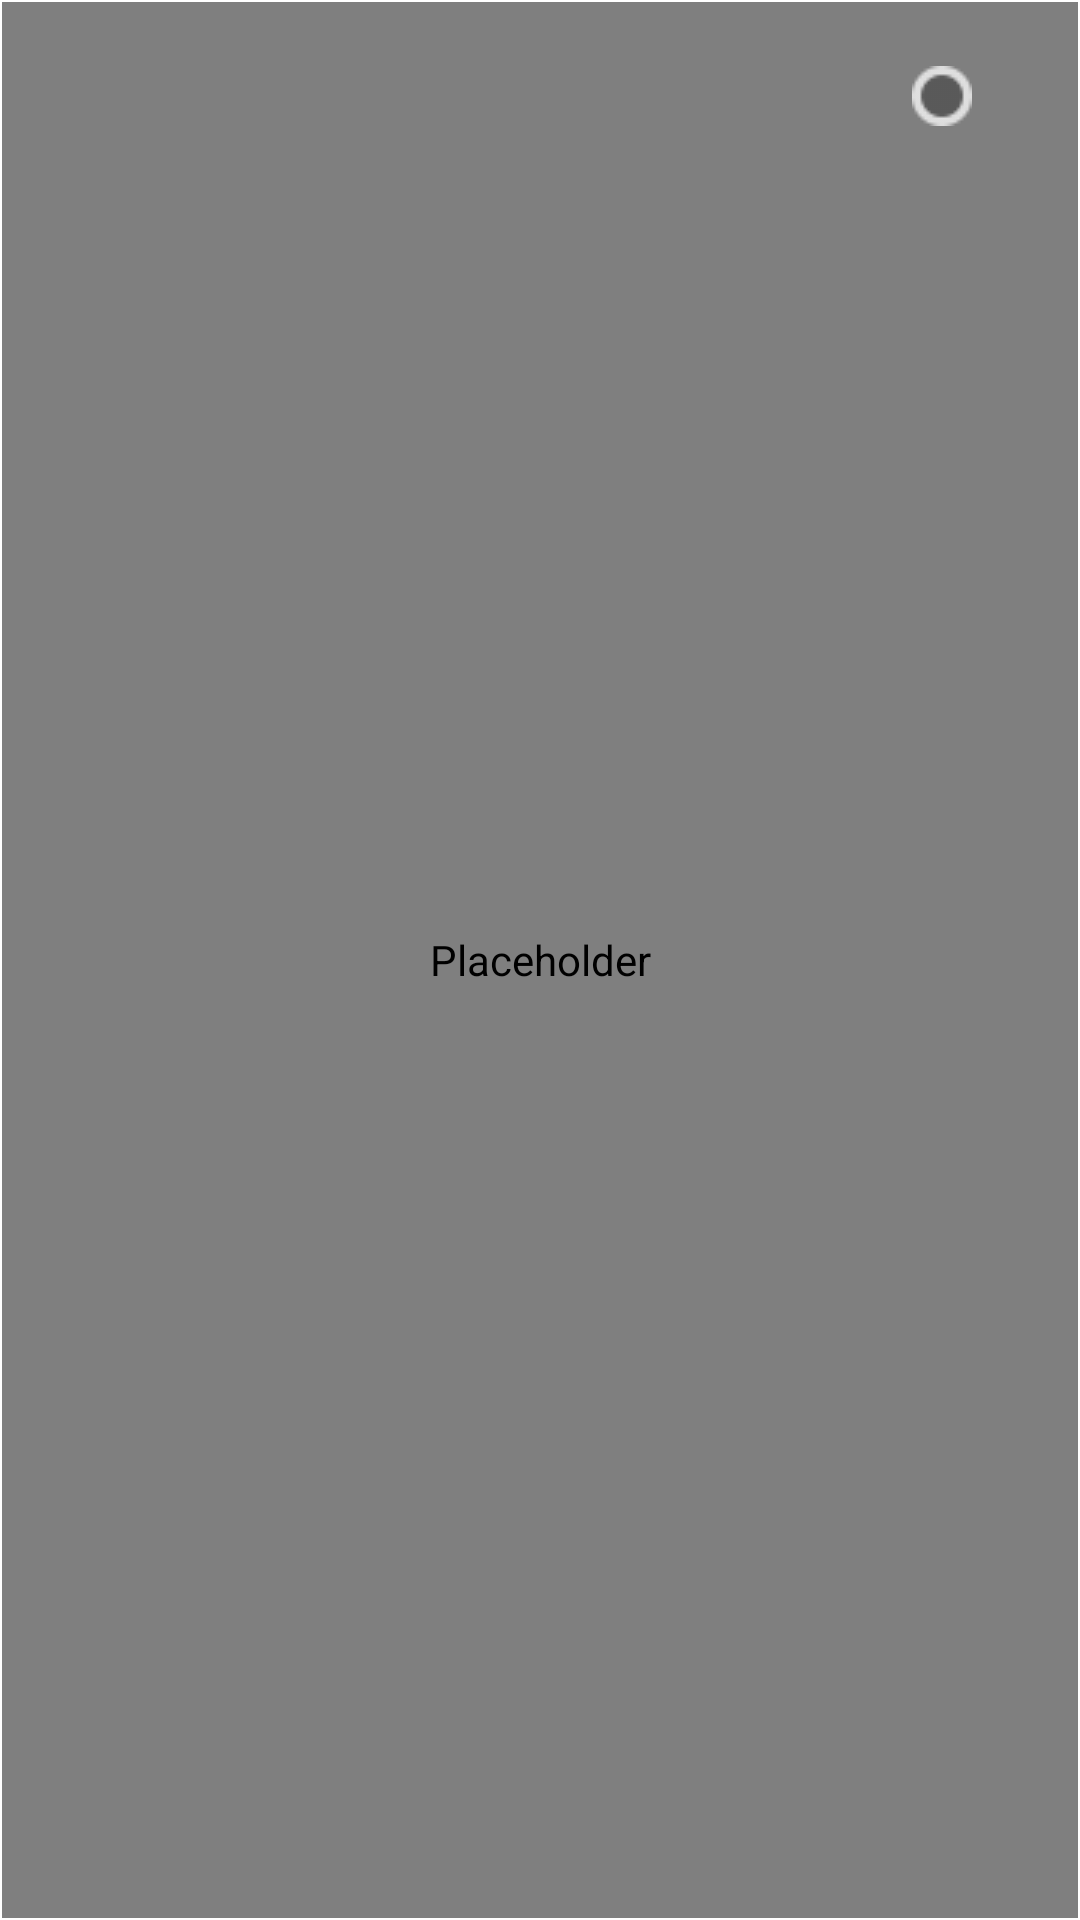

Named icons in this screenshot (1080px×1920px) and their centers, (x,y):
photo unselect: (942,96)
